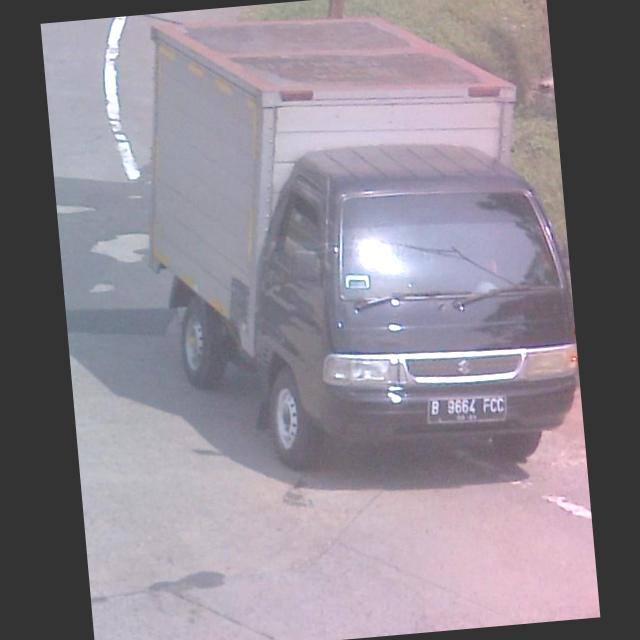plate: (427, 388, 510, 430)
